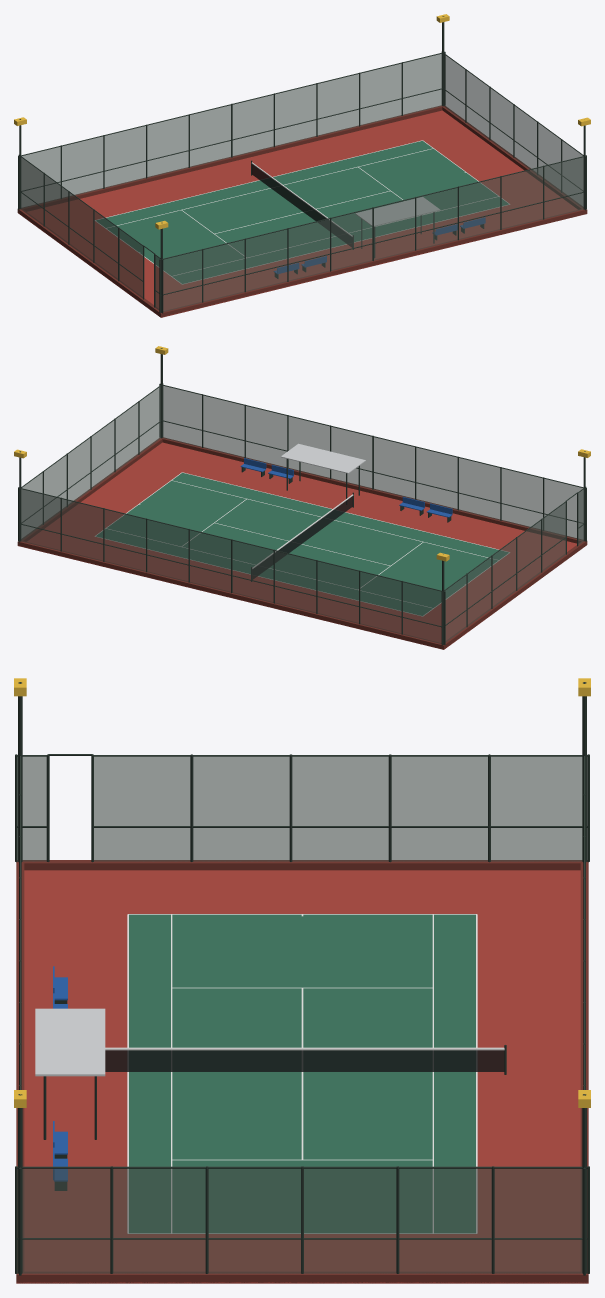
The model's file is TENNIS.glb.
The picture shows the model from 3 angles, top to bottom: view 1: azimuth 30°, elevation 25°; view 2: azimuth 150°, elevation 25°; view 3: azimuth 270°, elevation 25°; orthographic projection. The views are drawn at different scales.
Visible parts, largest first — view 1: TENNIS; view 2: TENNIS; view 3: TENNIS.
Boxes of the visible parts, box(x1,y1,x2,y2) form: TENNIS: box(14, 14, 590, 317); TENNIS: box(14, 346, 590, 649); TENNIS: box(14, 678, 590, 1283).
Bounding box in the file's own units: 31.35 × 6.5 × 18.15.
